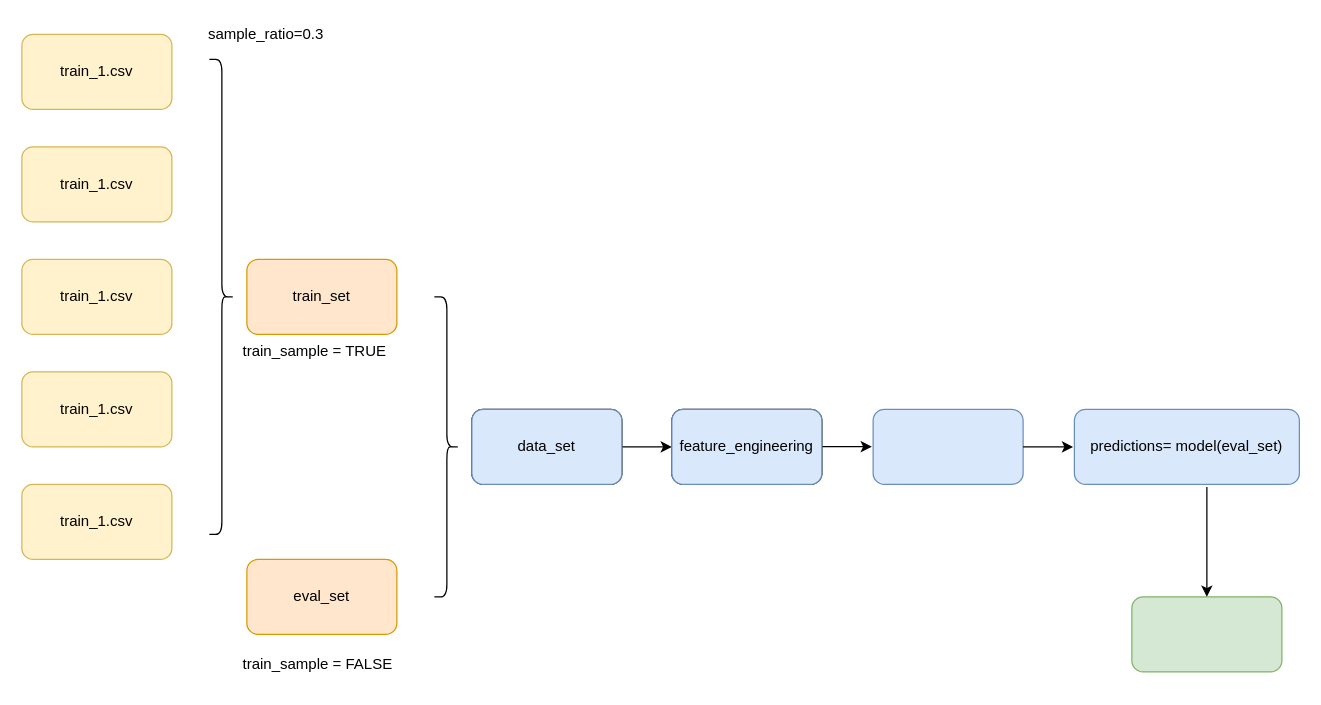
Some shapes in this 1321 by 705 pixel diagram are drawn without their labels. Each missing label, with the centre of its shape:
"model_training" goes at pixel 947 446.
"results" goes at pixel 1206 634.
